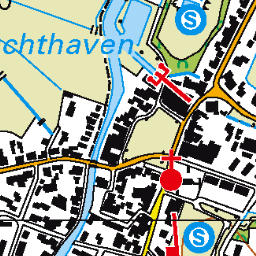church: (156, 147, 188, 194)
